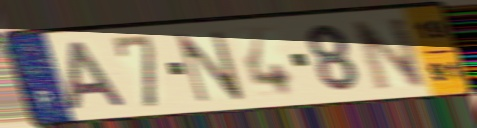4: (248, 24, 298, 100)
7: (110, 34, 159, 110)
8: (305, 21, 362, 95)
A: (64, 38, 132, 113)
N: (348, 14, 431, 94), (173, 28, 248, 105)
